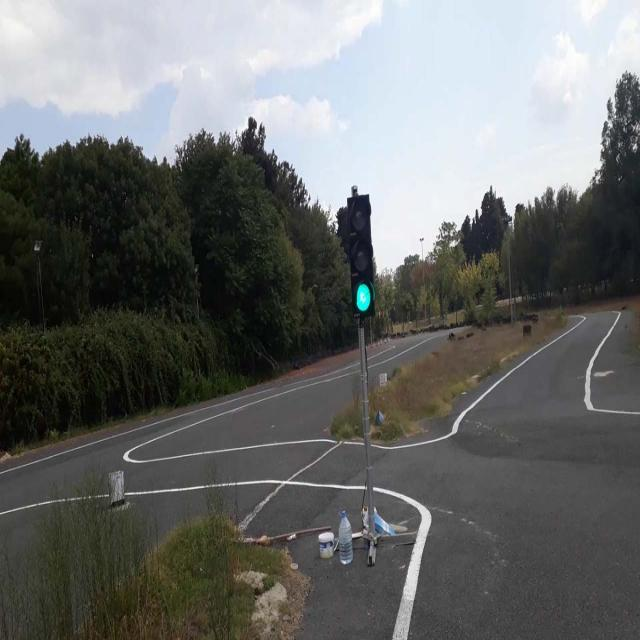yesil: (346, 193, 374, 316)
